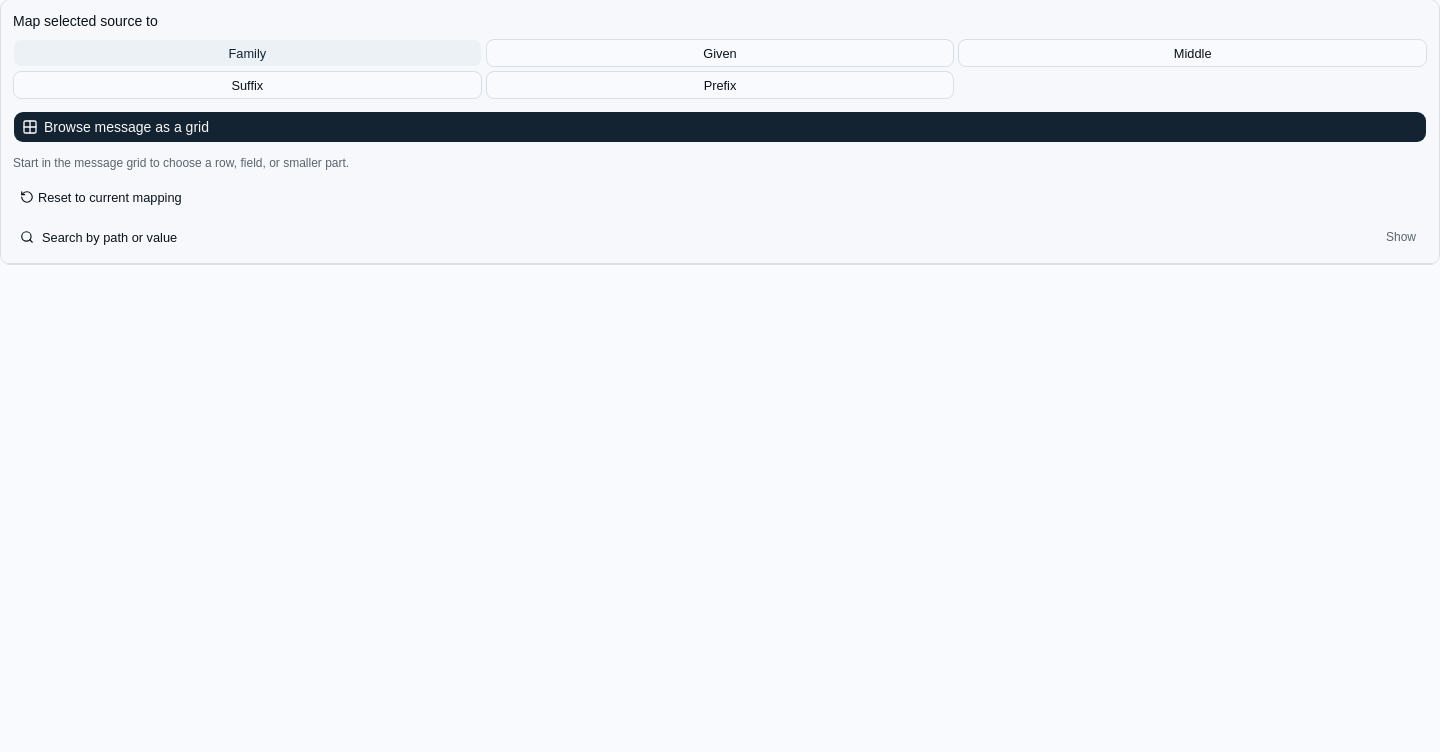
HL7 source browser › resets a person-name role to the source at its canonical position
Click the button "Search by path or value Show".
click(110, 237)  # box [13,223,1427,251]
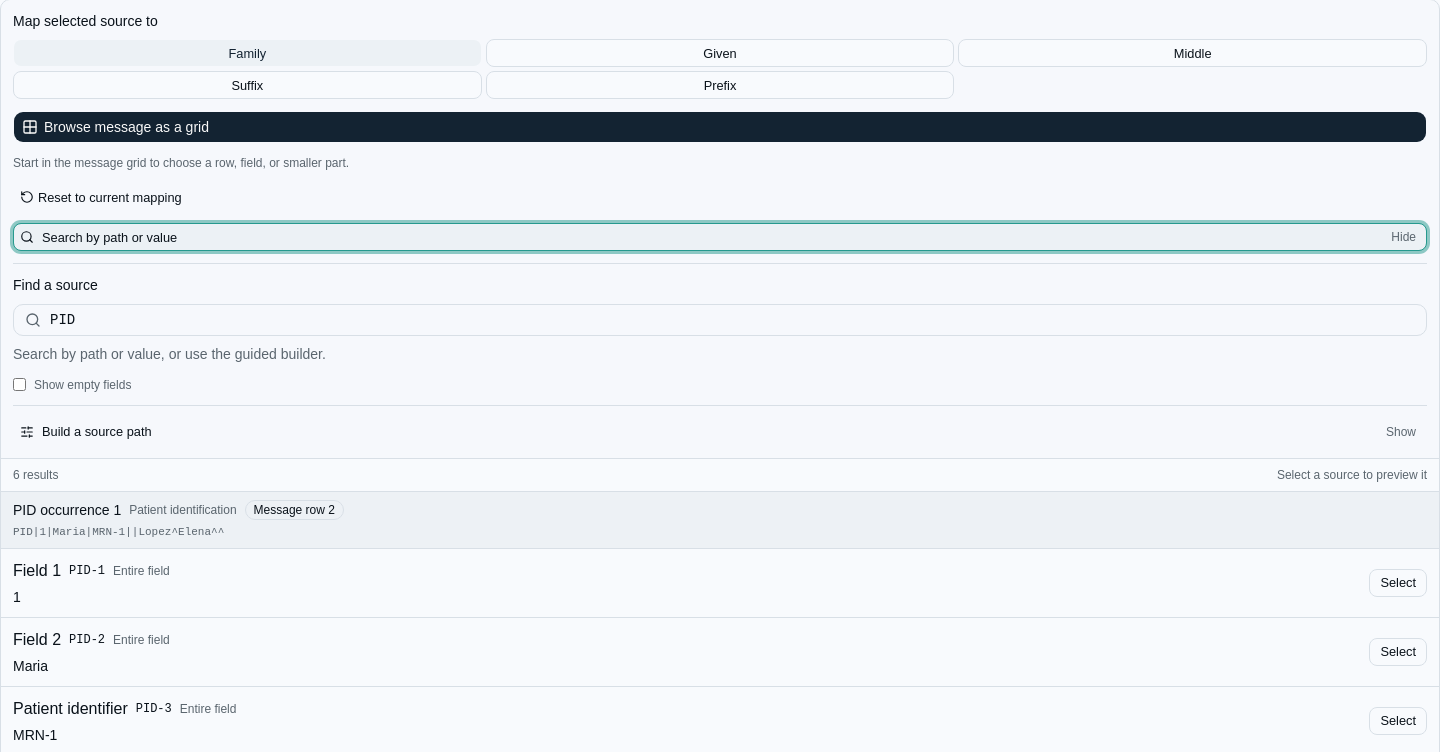
Click the button "Middle".
click(1193, 53)  # box [958,39,1427,67]
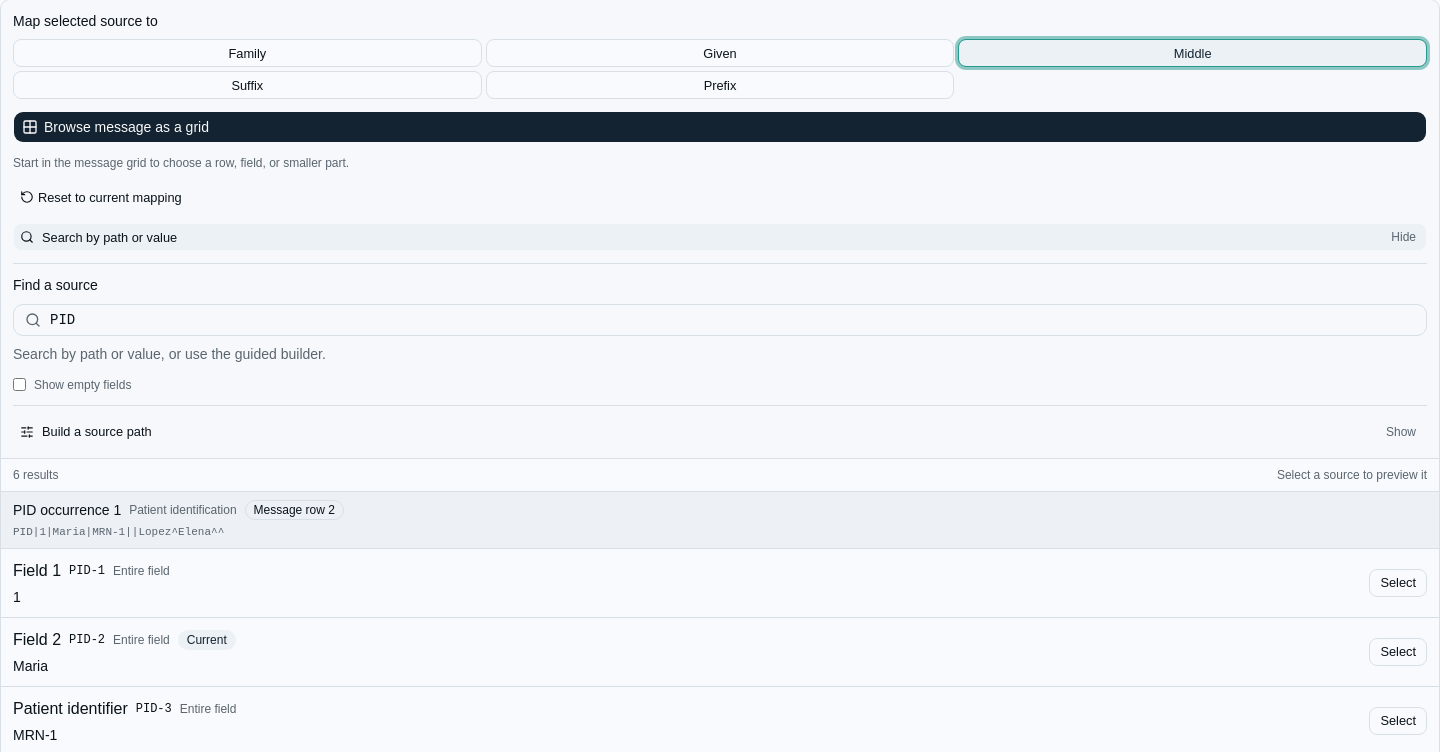
Click the button "Reset to current mapping".
click(110, 197)  # box [13,183,1427,211]
(page scrolled)
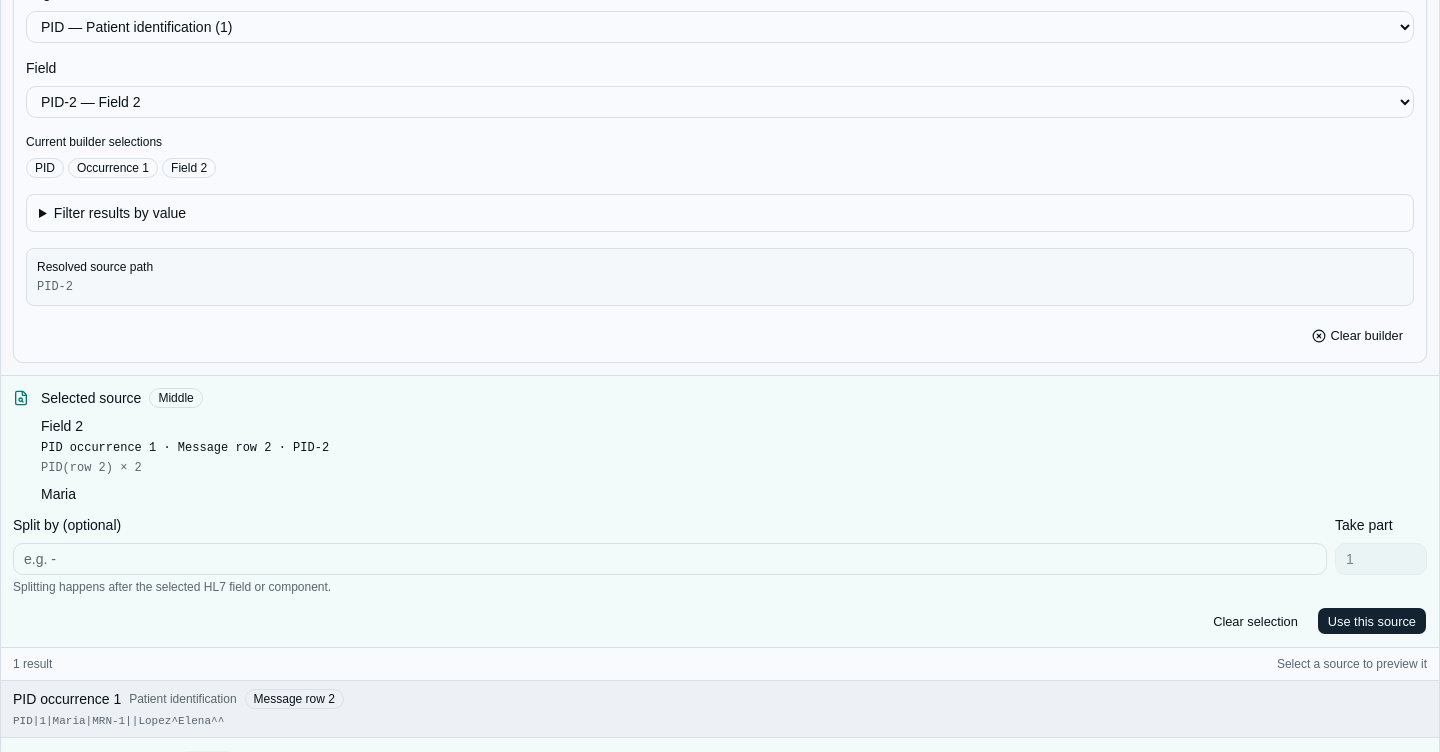
expect the text "Selected source" shows "Middle": met, box [158,391,194,405]
expect the text "Selected source" shows "PID-2": met, box [293,441,329,455]
